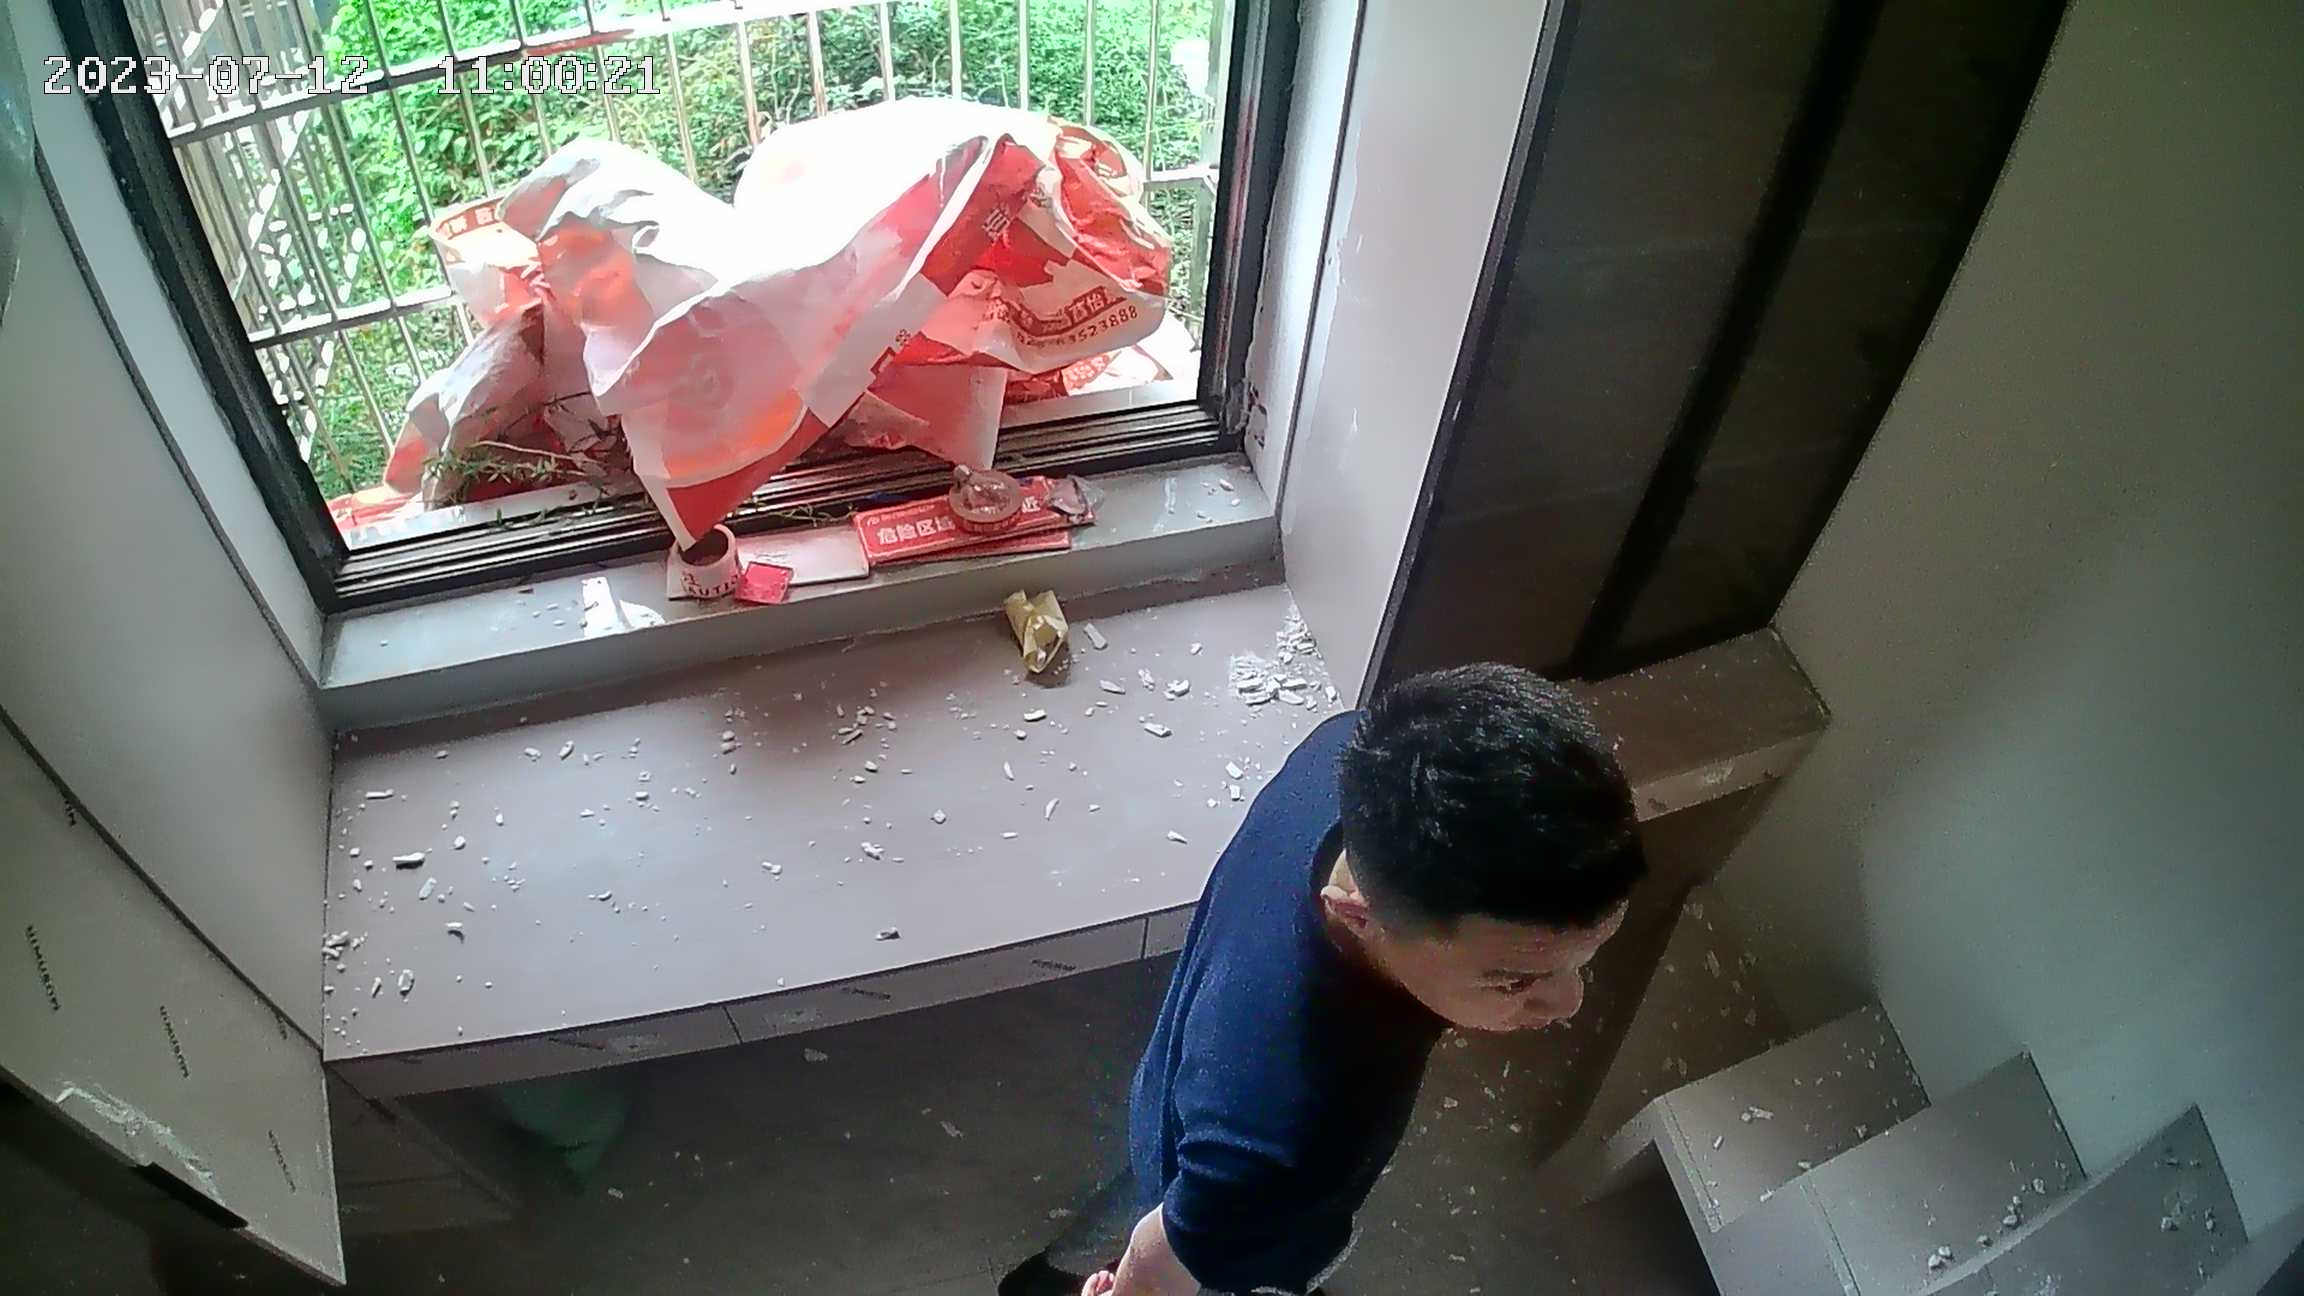people: (1065, 661, 1651, 1296)
window: (127, 8, 1282, 538)
